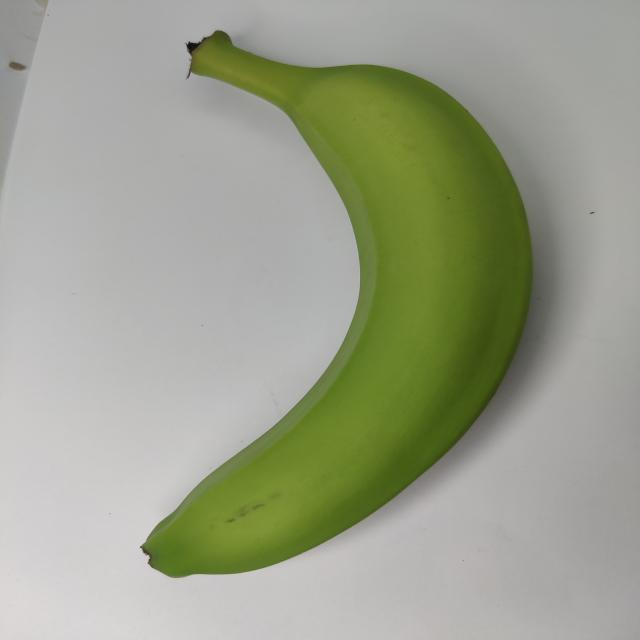raw: (88, 19, 548, 590)
